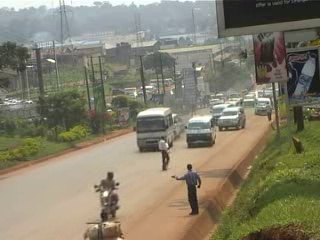Car: (216, 105, 249, 132), (242, 94, 256, 106)
Motorcycle: (92, 181, 122, 218)
